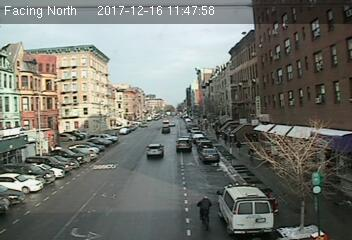bicycle: (196, 194, 212, 231)
car: (199, 148, 220, 164), (145, 143, 166, 158), (176, 136, 192, 152)
police: (219, 183, 274, 234)
